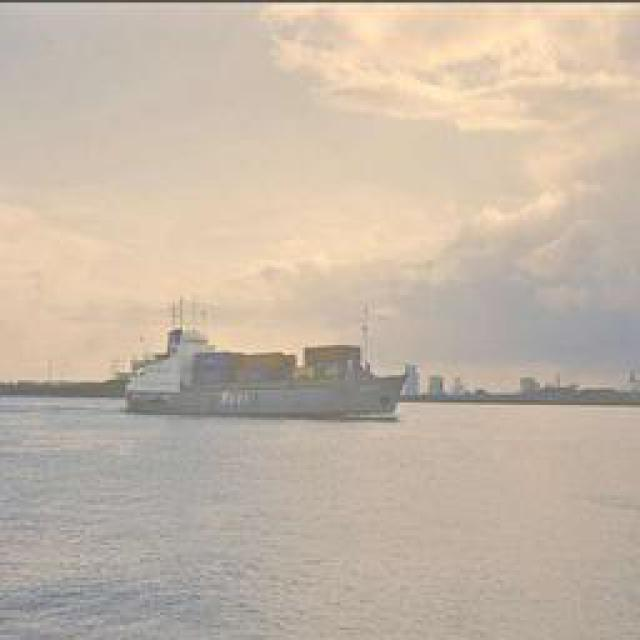Ship: (126, 319, 419, 419)
